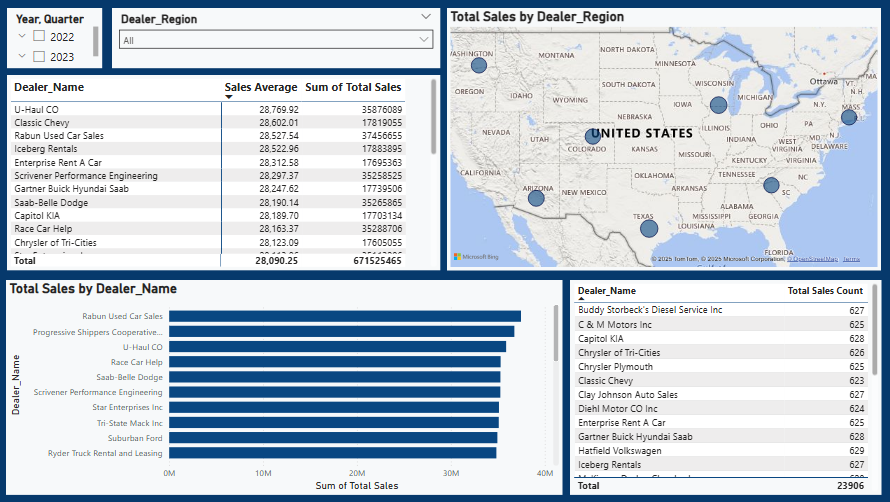

The dashboard page shown, as its layout file describes it:
{"tool":"powerbi","page":{"name":"Dealer_Insights","canvas":[1280,720],"ordinal":4},"visuals":[{"type":"barChart","fields":{"Category":["Dim_Dealer.Dealer_Name"],"Y":["Sum(Fact_Sales.Total Sales)"]},"box":[10.7,401.1,794.6,318.5],"z":0},{"type":"map","fields":{"Size":["Sum(Fact_Sales.Total Sales)"],"Category":["Dim_Dealer.Dealer_Region"]},"box":[640,12.2,620.1,375.1],"z":1000},{"type":"tableEx","fields":{"Values":["Dim_Dealer.Dealer_Name","Fact_Sales.Total Sales Count"]},"box":[816.1,401.1,444,318.5],"z":2000},{"type":"slicer","fields":{"Values":["Dim_Date.Year","Dim_Date.Quarter"]},"box":[10.7,12.2,136.3,85.7],"z":3000},{"type":"pivotTable","fields":{"Rows":["Dim_Dealer.Dealer_Name"],"Values":["Fact_Sales.Sales Average","Sum(Fact_Sales.Total Sales)"]},"box":[10.7,108.7,618.6,278.7],"z":4000},{"type":"slicer","fields":{"Values":["Dim_Dealer.Dealer_Region"]},"box":[160.8,12.2,468.5,85.7],"z":5000}]}

Visuals, with their boxes in screenshot pixels (x1, y1, x2, y2), scaled from the page's 1280x720 canvas onto the 890x502 screenshot:
barChart - Dim_Dealer.Dealer_Name x Sum(Fact_Sales.Total Sales): <region>7, 280, 560, 501</region>
map - Sum(Fact_Sales.Total Sales) x Dim_Dealer.Dealer_Region: <region>445, 9, 876, 270</region>
tableEx - Dim_Dealer.Dealer_Name x Fact_Sales.Total Sales Count: <region>567, 280, 876, 501</region>
slicer - Dim_Date.Year x Dim_Date.Quarter: <region>7, 9, 102, 68</region>
pivotTable - Dim_Dealer.Dealer_Name x Fact_Sales.Sales Average: <region>7, 76, 438, 270</region>
slicer - Dim_Dealer.Dealer_Region: <region>112, 9, 438, 68</region>
